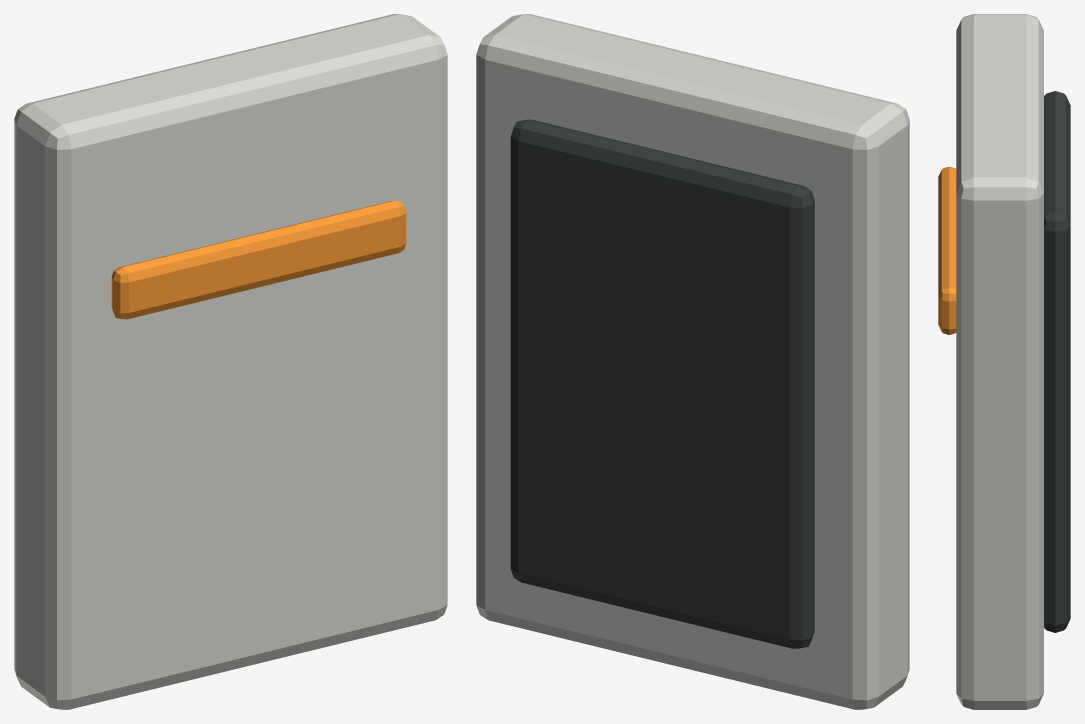
Rendered from WISP_Shield_v003.fbx.
3 views of the same model, side by side, from view 1: azimuth 30°, elevation 25°; view 2: azimuth 150°, elevation 25°; view 3: azimuth 270°, elevation 25° (orthographic). The views are drawn at different scales.
Visible parts, largest first — view 1: Guard body, Guard orange stripe; view 2: Guard inner, Guard body; view 3: Guard body, Guard inner, Guard orange stripe.
Boxes of the visible parts, bbox=[...] form: Guard body: bbox=[14, 14, 447, 709]; Guard orange stripe: bbox=[111, 201, 406, 319]; Guard inner: bbox=[510, 119, 814, 648]; Guard body: bbox=[476, 14, 909, 709]; Guard body: bbox=[956, 14, 1043, 709]; Guard inner: bbox=[1044, 91, 1070, 632]; Guard orange stripe: bbox=[938, 166, 956, 334].
Size of the model in its own units: 0.48 by 0.67 by 0.151.
